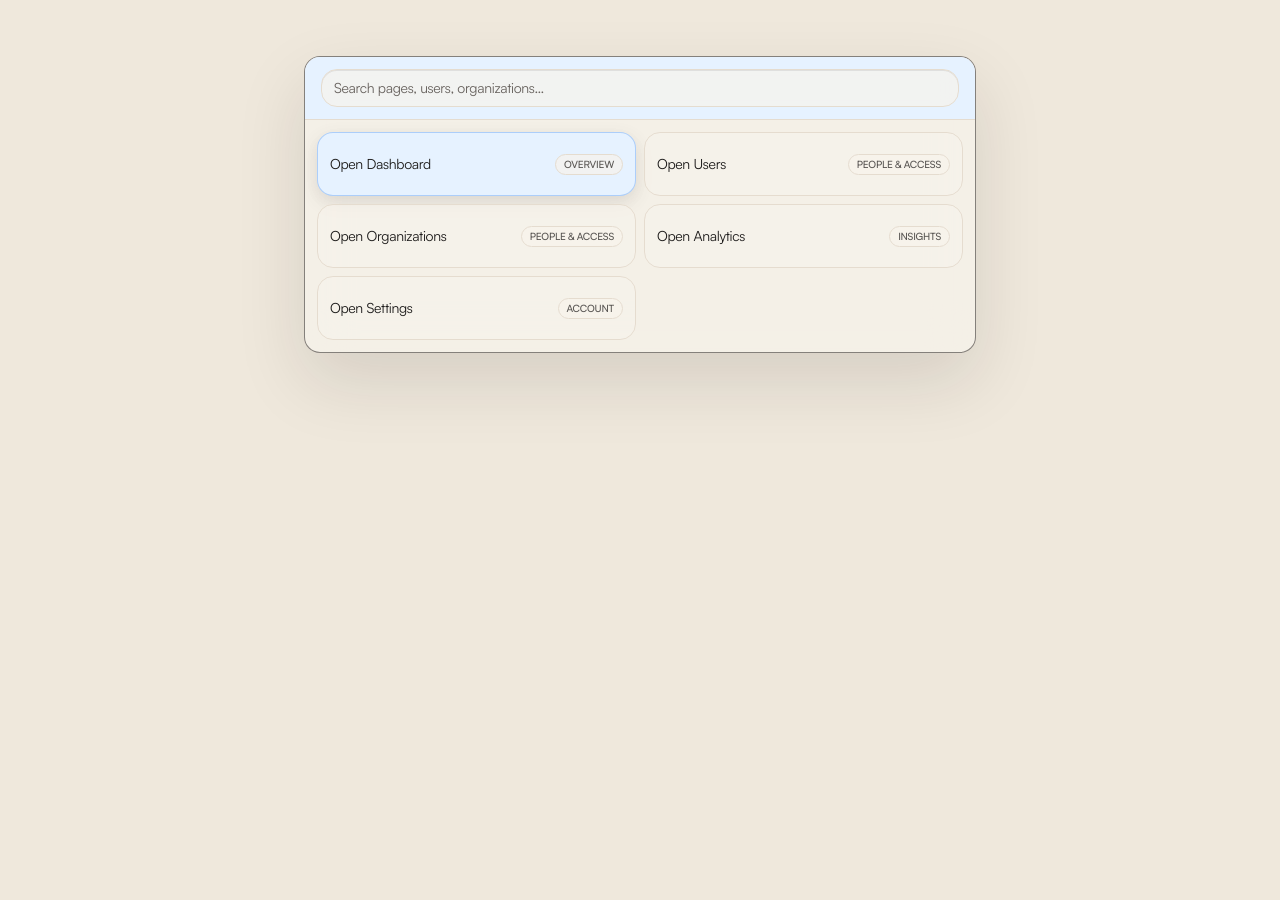
Scenario: CommandPalette › filters items by query
Type "metrics" into the field named "command palette input".
click(640, 88); type("metrics")  # box [334,78,946,98]
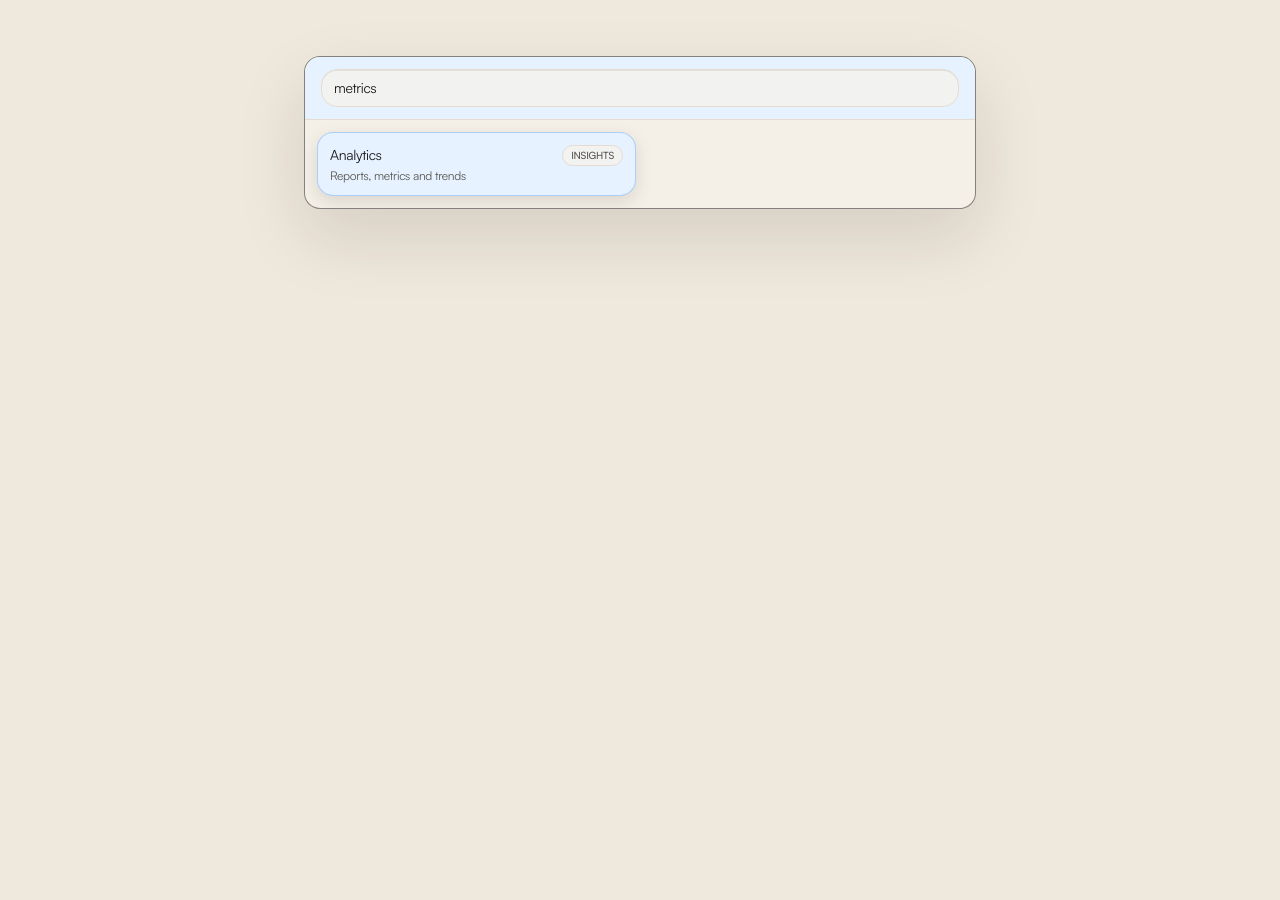
Expected: the button "Analytics Insights Reports, metrics and trends" is shown, [317,132,636,196]
Expected: the button "Users" is gone
Expected: the button "Settings" is gone
